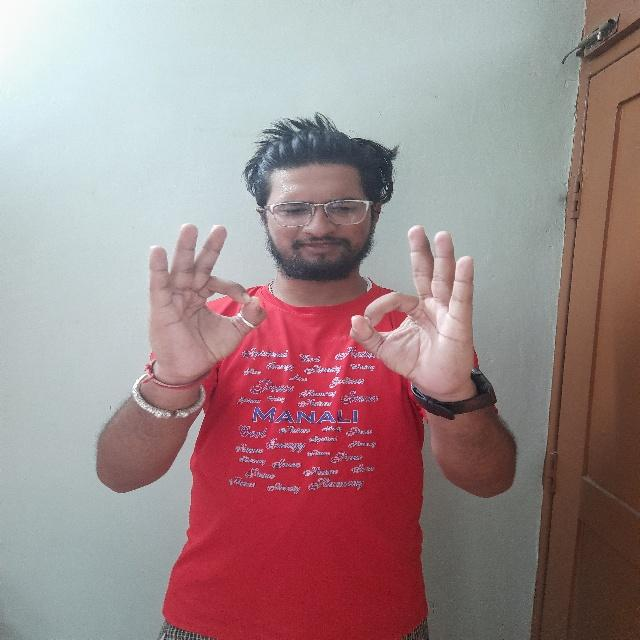Okay: (346, 220, 487, 417), (140, 217, 273, 409)
